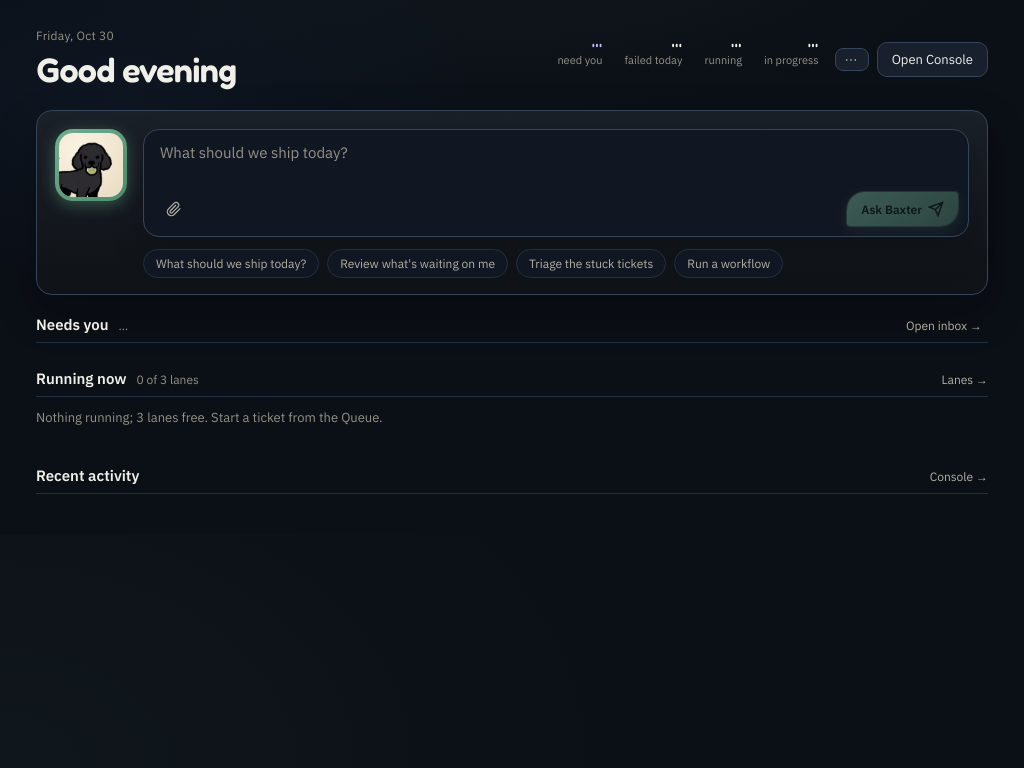
Test case: HomePage › fills the composer from a quick-prompt chip without navigating away
Click the list item "Review what's waiting on me" at (418, 264), box [327,249,508,278]
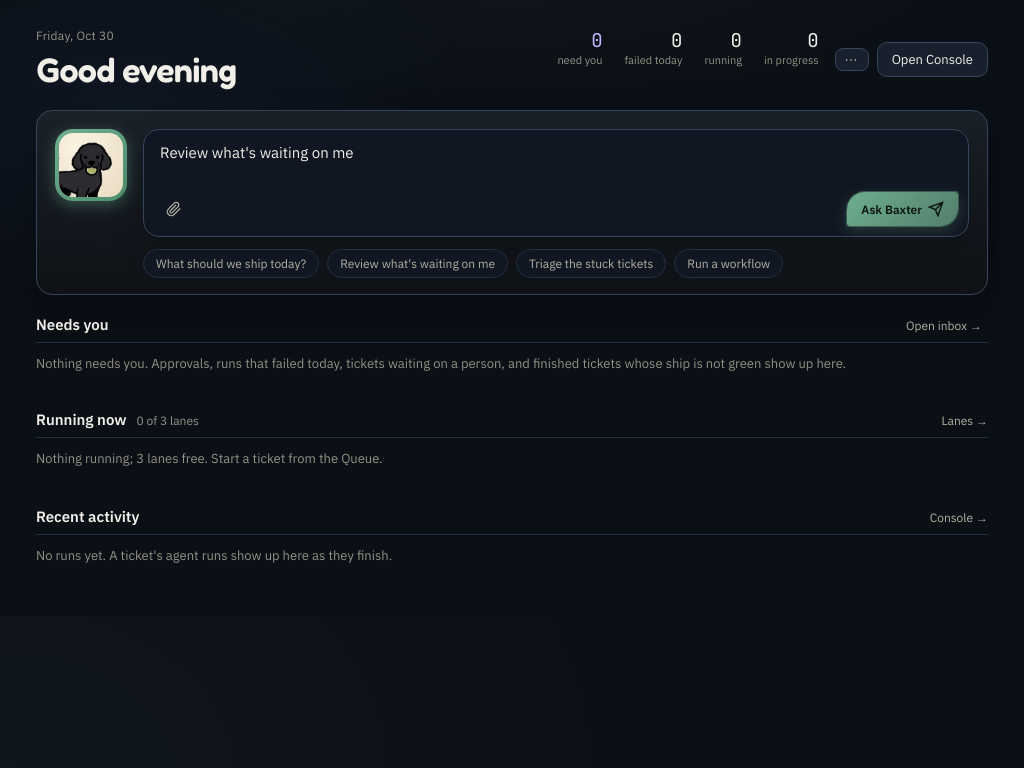
Check: the text box with placeholder "What should we ship today?" holds "Review what's waiting on me", box [158,140,958,184]
